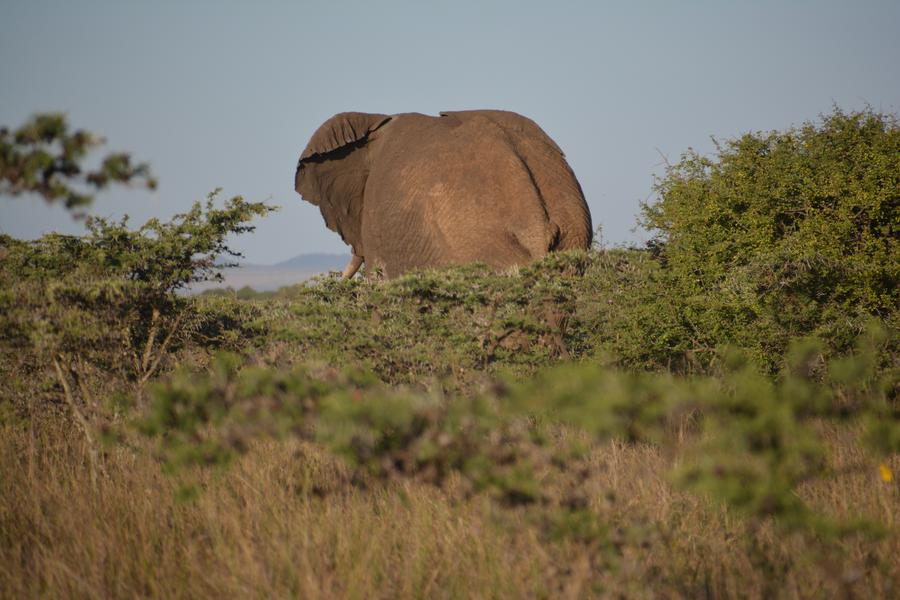elephant: (301, 101, 589, 370)
